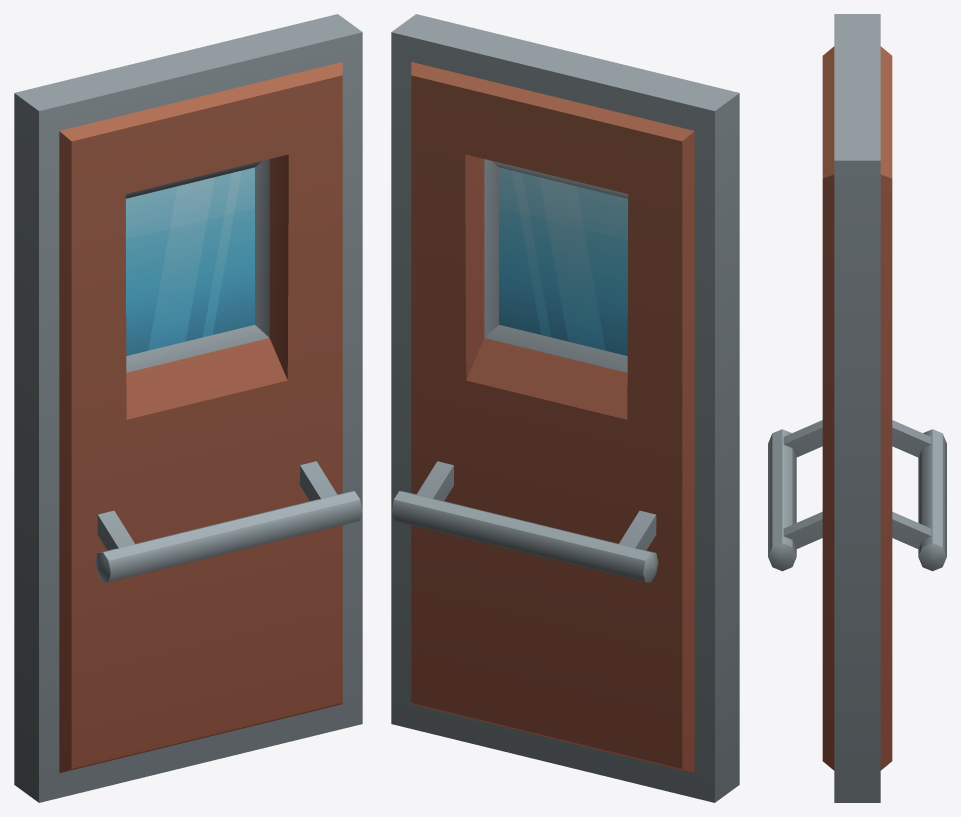
File: door.fbx
The picture shows the model from 3 angles, left to right: view 1: azimuth 30°, elevation 25°; view 2: azimuth 150°, elevation 25°; view 3: azimuth 270°, elevation 25°; orthographic projection. The views are drawn at different scales.
Parts seen in each view (by area): view 1: door_B; view 2: door_B; view 3: door_B.
Part boxes in pixels (box(x1,y1,x2,y2)): door_B: box(14, 14, 362, 802); door_B: box(391, 14, 739, 802); door_B: box(768, 14, 946, 802).
Bounding box in the file's own units: 120 × 246 × 61.98.
Materials: 1 (1 with a texture image).
